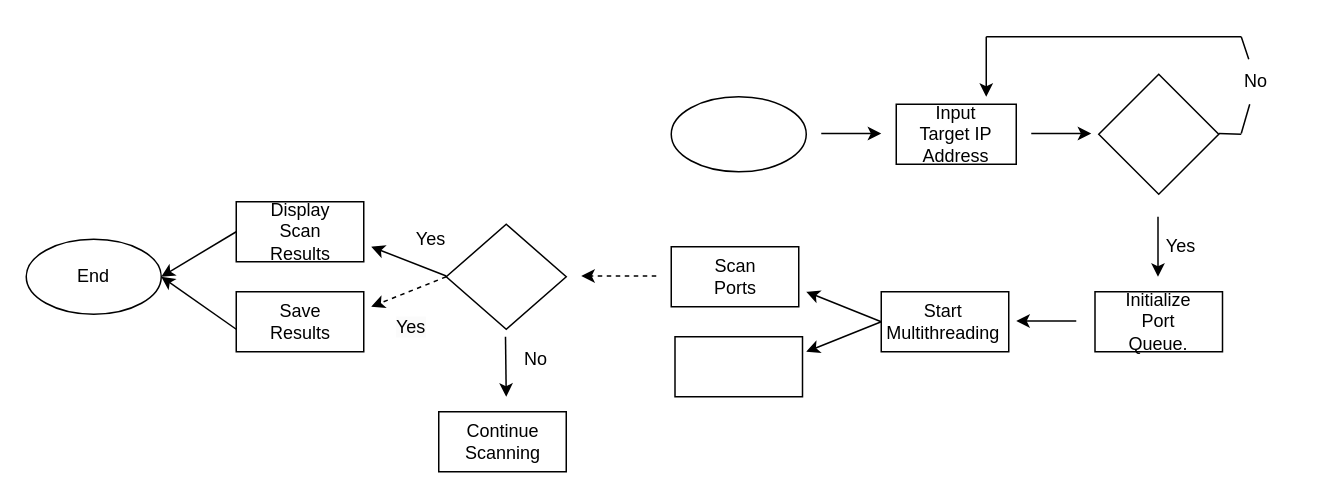
Some shapes in this 1328 by 498 pixel diagram are drawn without their labels. The shapes that lost their labels are listed below. From the top down, each one's box as (x1, y1, x2, y2) in pixels, then its label:
(670, 95, 806, 172): Start
(1097, 73, 1219, 194): Is IP Address Valid?
(445, 223, 566, 329): Stop Scan?
(674, 335, 802, 397): Update Progress Bar
